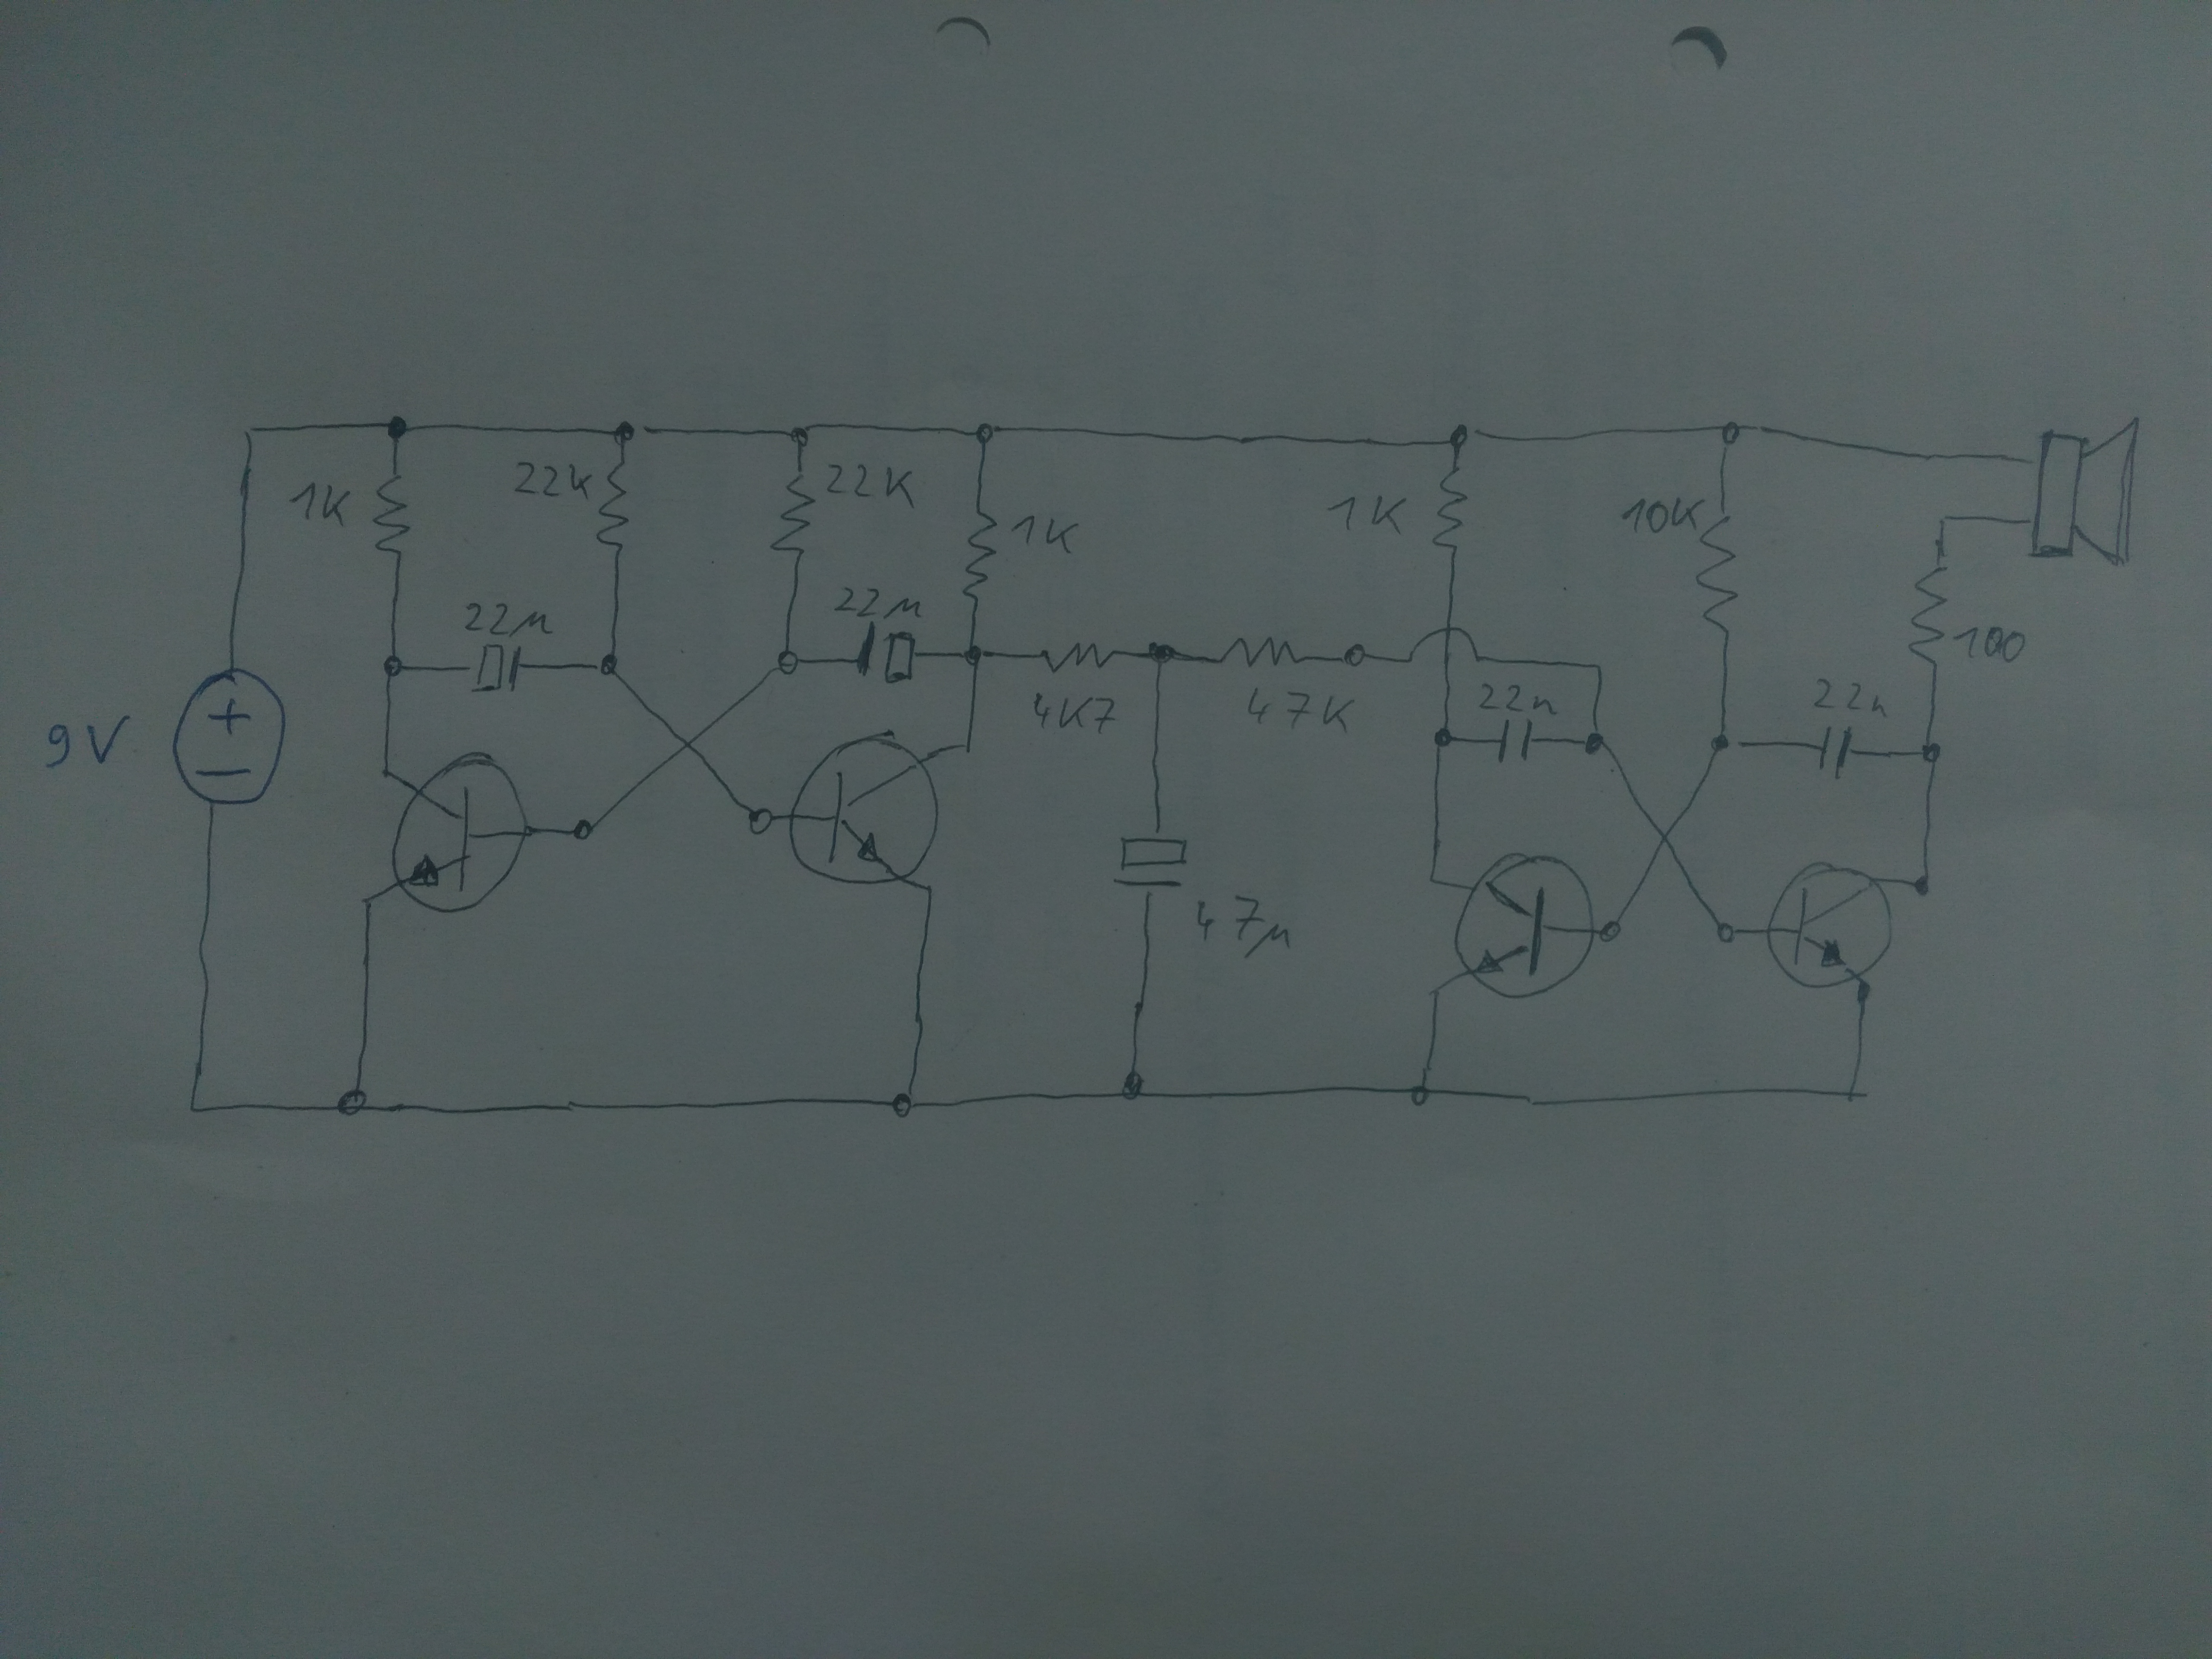capacitor.polarized: (1111, 833, 1193, 889), (855, 620, 916, 690), (470, 641, 526, 694)
capacitor.unpolarized: (1494, 718, 1536, 769), (1817, 721, 1853, 779)
crossover: (1400, 620, 1487, 673), (1642, 812, 1688, 859), (662, 723, 709, 763)
junction: (885, 1086, 921, 1122), (334, 1086, 373, 1117), (1707, 730, 1740, 763), (745, 802, 775, 838), (1120, 1070, 1148, 1107), (1144, 638, 1176, 669), (1580, 728, 1609, 762), (1446, 422, 1475, 453), (1418, 868, 1447, 897), (1838, 1077, 1867, 1107), (1594, 917, 1623, 946), (1709, 918, 1738, 948), (772, 650, 803, 678), (972, 418, 1000, 450), (1716, 416, 1743, 448), (1914, 741, 1946, 769), (380, 652, 408, 681), (1343, 640, 1369, 671), (354, 889, 381, 917), (786, 422, 813, 450), (179, 1093, 207, 1121), (1430, 723, 1458, 751), (381, 413, 411, 439), (610, 420, 639, 446), (1933, 507, 1959, 537), (594, 653, 622, 680), (570, 816, 596, 843), (960, 643, 988, 667), (1585, 653, 1609, 681), (1911, 871, 1935, 899), (954, 734, 979, 760), (1407, 1080, 1432, 1107), (237, 420, 265, 443), (1425, 983, 1447, 1009), (918, 878, 941, 901), (376, 763, 397, 788)
resistor: (1693, 511, 1743, 638), (1905, 561, 1952, 673), (765, 469, 819, 561), (960, 505, 1000, 606), (369, 471, 415, 558), (594, 458, 631, 556), (1430, 464, 1470, 552), (1217, 633, 1305, 673), (1036, 640, 1118, 676)
speaker: (2026, 416, 2141, 573)
text: (1191, 892, 1296, 962), (1245, 681, 1359, 735), (40, 709, 131, 775), (822, 462, 920, 505), (1028, 690, 1118, 735), (512, 458, 594, 505), (463, 598, 556, 638), (1618, 495, 1705, 537), (1810, 676, 1892, 720), (831, 586, 927, 622), (1327, 495, 1409, 537), (1008, 511, 1082, 556), (1952, 622, 2027, 666), (1475, 680, 1557, 716), (291, 477, 348, 528)
transistor: (784, 732, 946, 889), (390, 753, 533, 917), (1451, 849, 1599, 1004), (1761, 861, 1898, 995)
voltage.dc: (164, 669, 291, 810)
